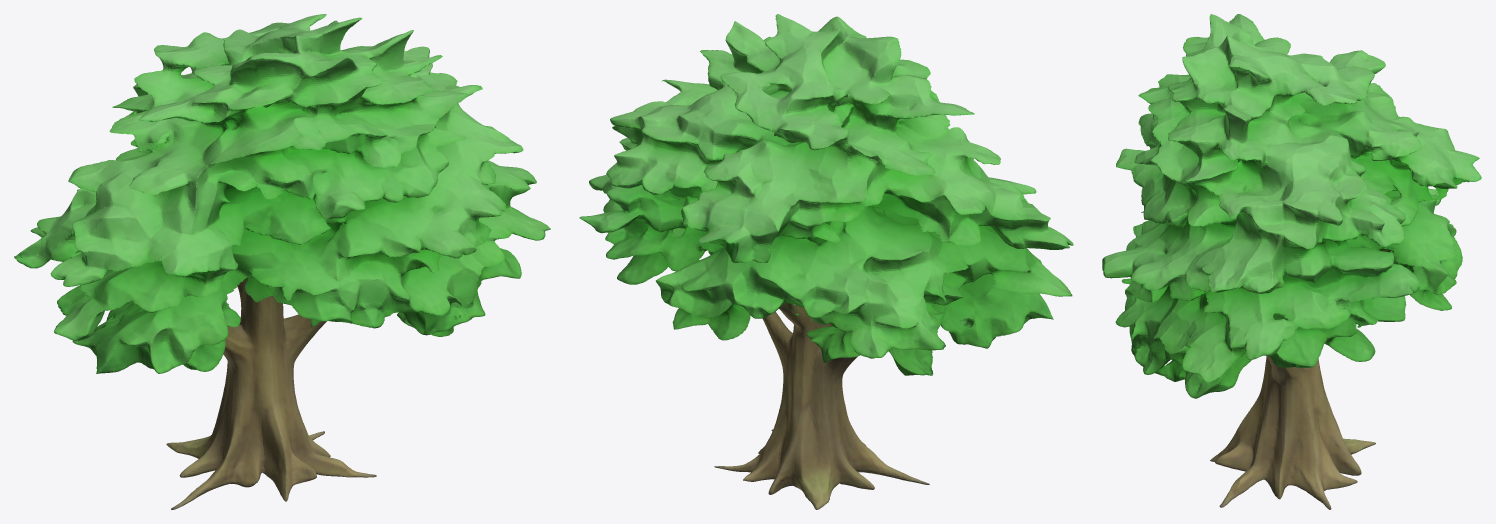
File: trees_green.glb
3 renders of one model, left to right at view 1: azimuth 30°, elevation 25°; view 2: azimuth 150°, elevation 25°; view 3: azimuth 270°, elevation 25°, orthographic. The views are drawn at different scales.
Parts seen in each view (by area): view 1: world; view 2: world; view 3: world.
Boxes of the visible parts, x1=… form: world: x1=14, y1=14, x2=550, y2=509; world: x1=579, y1=14, x2=1073, y2=509; world: x1=1102, y1=14, x2=1481, y2=509.
Bounding box in the file's own units: 0.9858 × 0.863 × 0.6775.
